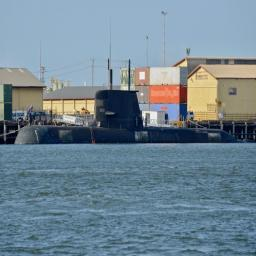submarine: (18, 59, 246, 143)
